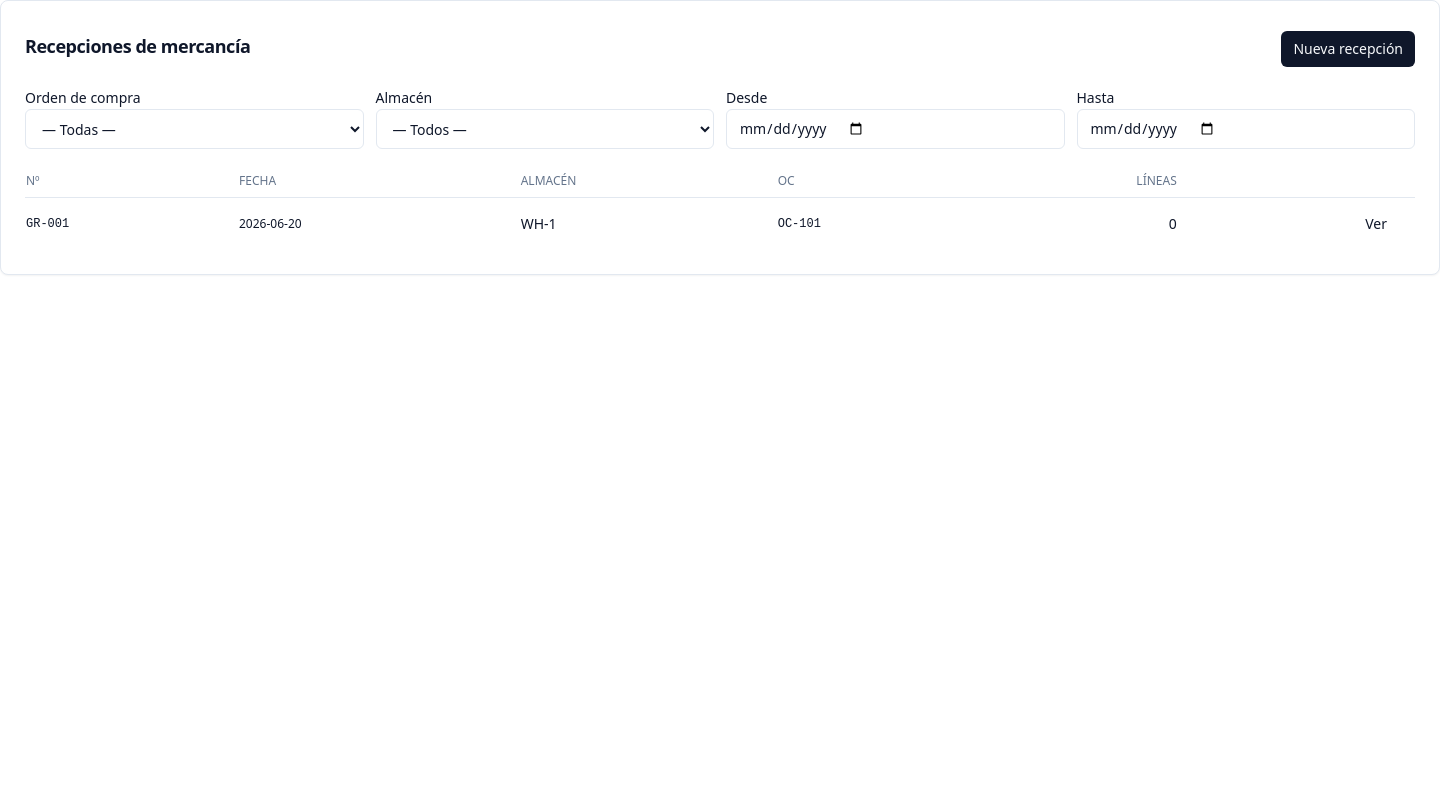
Test case: ReceiptsPage › modo "Contra OC" precarga la cantidad pendiente (10 − 3 = 7)
Click the button "Nueva recepción" at (1348, 49), box [1281,31,1415,67]
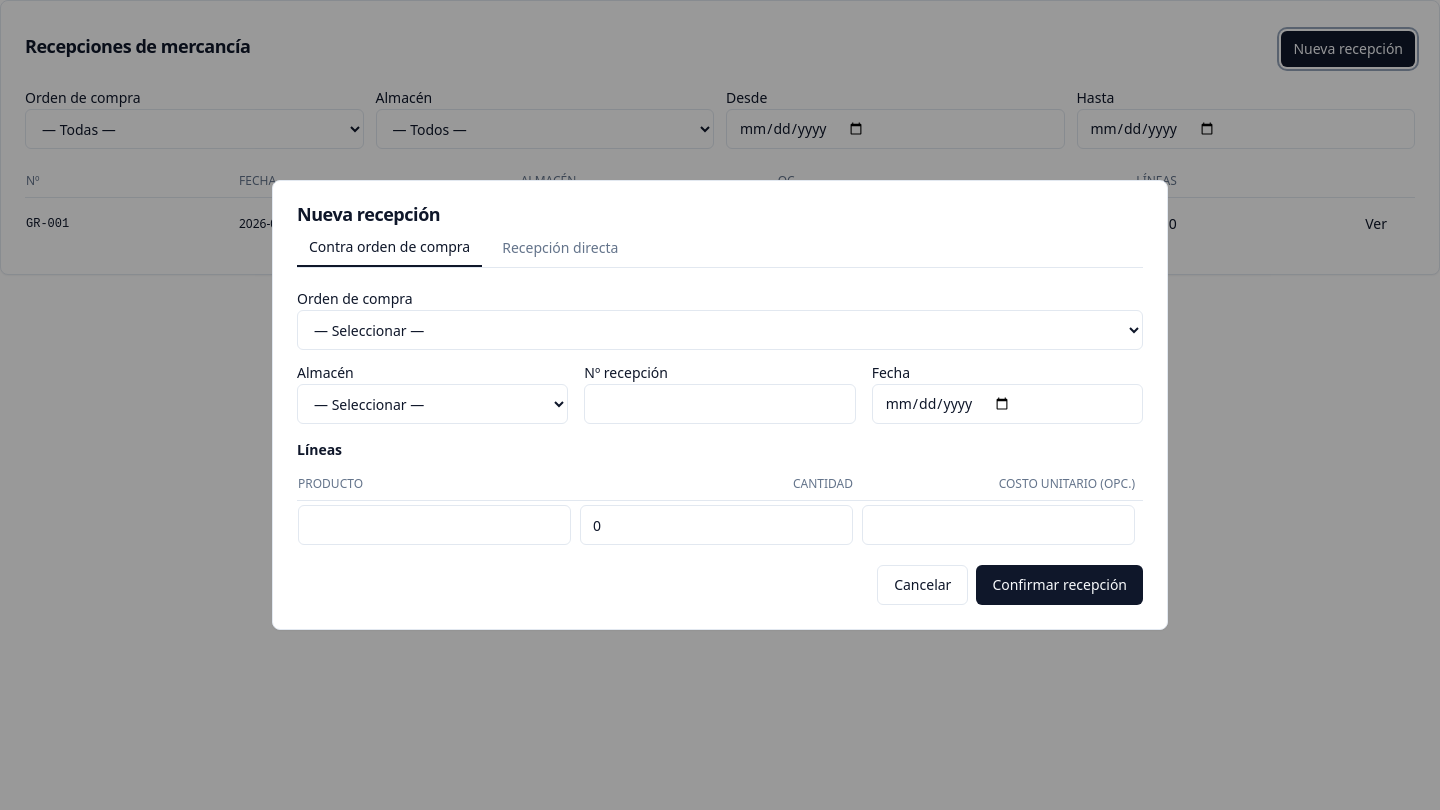
Select "OC-101 — Proveedor A" in the dropdown with id "r-po" at (720, 330), box [297,310,1143,350]
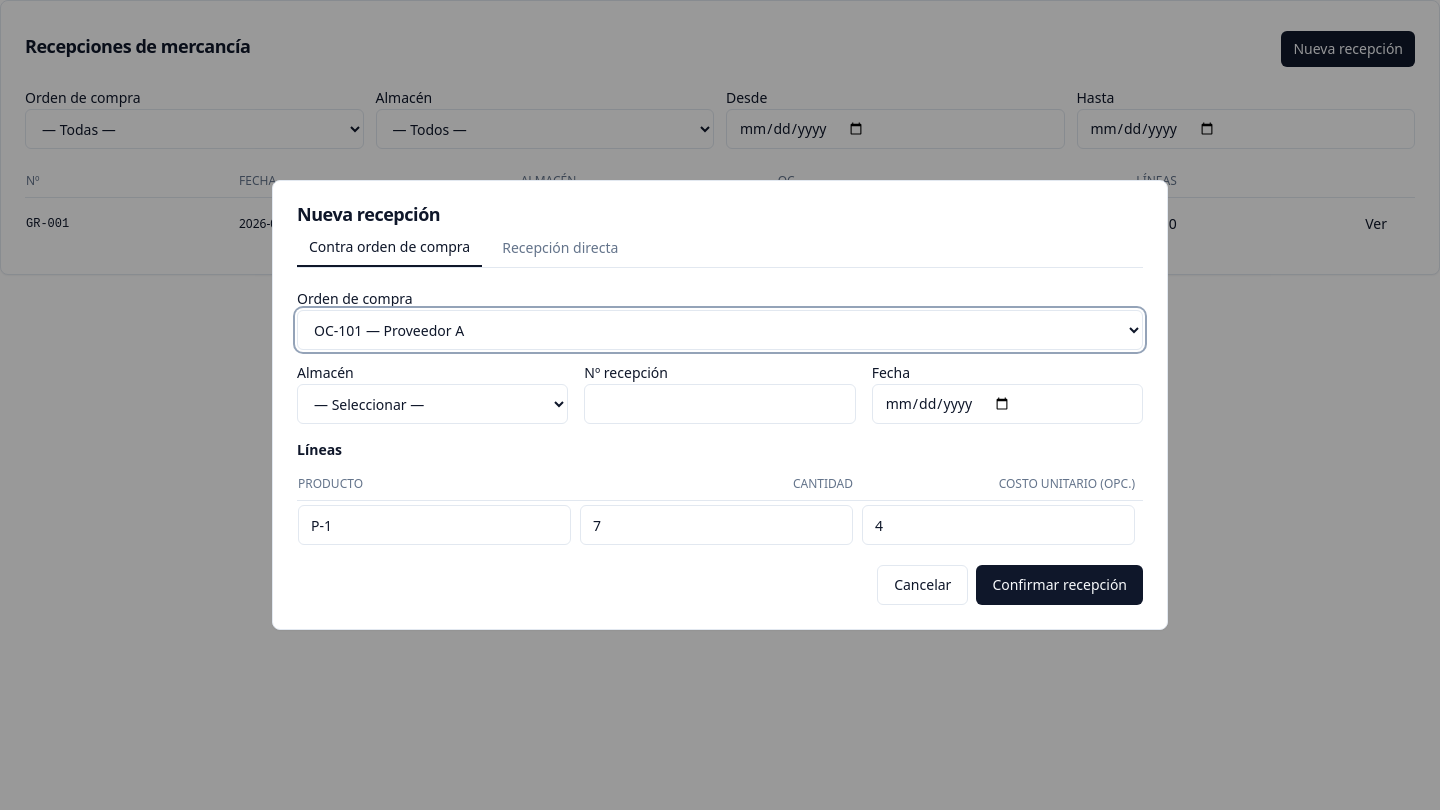
Check: the field named "cantidad línea 1" holds "7", box [580,505,853,545]
